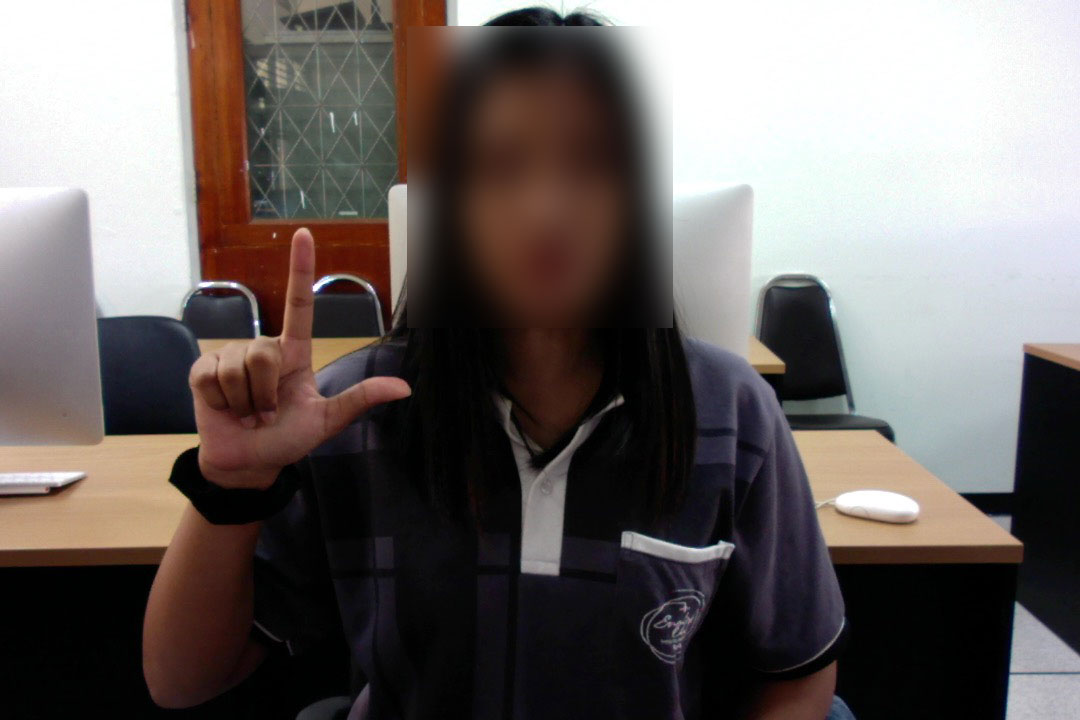lor: (166, 217, 424, 512)
